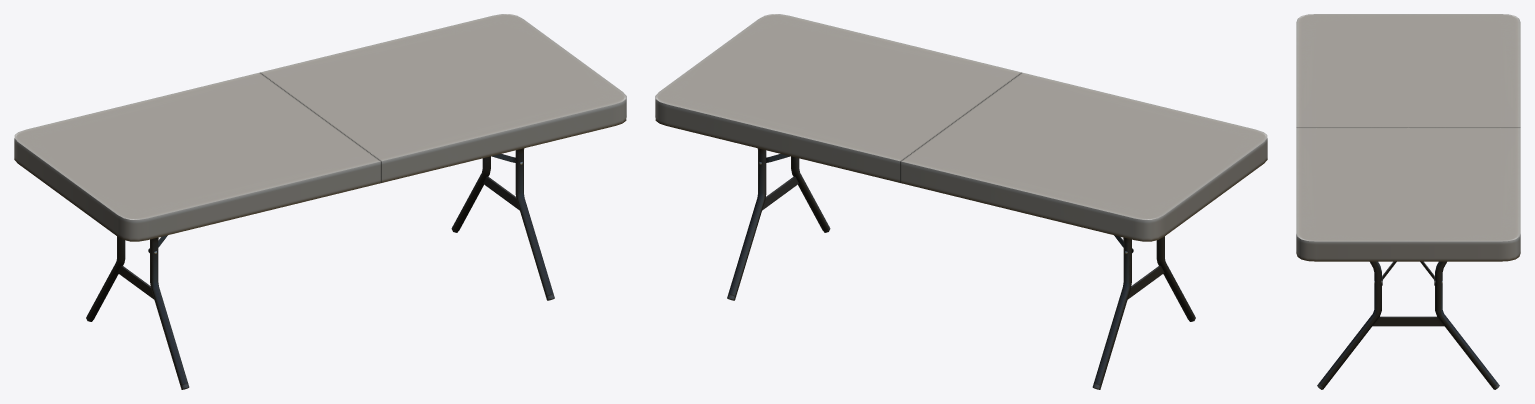
The model's file is foldable_table.dae.
3 renders of one model, left to right at view 1: azimuth 30°, elevation 25°; view 2: azimuth 150°, elevation 25°; view 3: azimuth 270°, elevation 25°, orthographic. The views are drawn at different scales.
Parts seen in each view (by area): view 1: Table; view 2: Table; view 3: Table.
Boxes of the visible parts, x1,y1,x2,y2 form: Table: [14, 14, 626, 389]; Table: [655, 14, 1267, 389]; Table: [1296, 14, 1520, 389].
Bounding box in the file's own units: 183 × 76.2 × 67.24.
